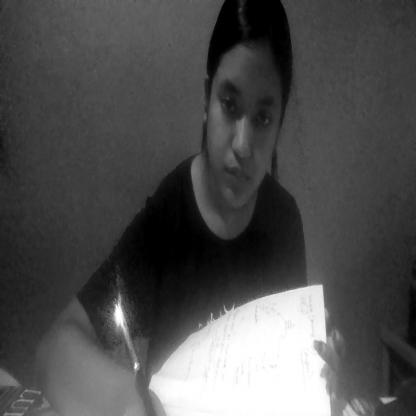Normal: (203, 3, 291, 206)
